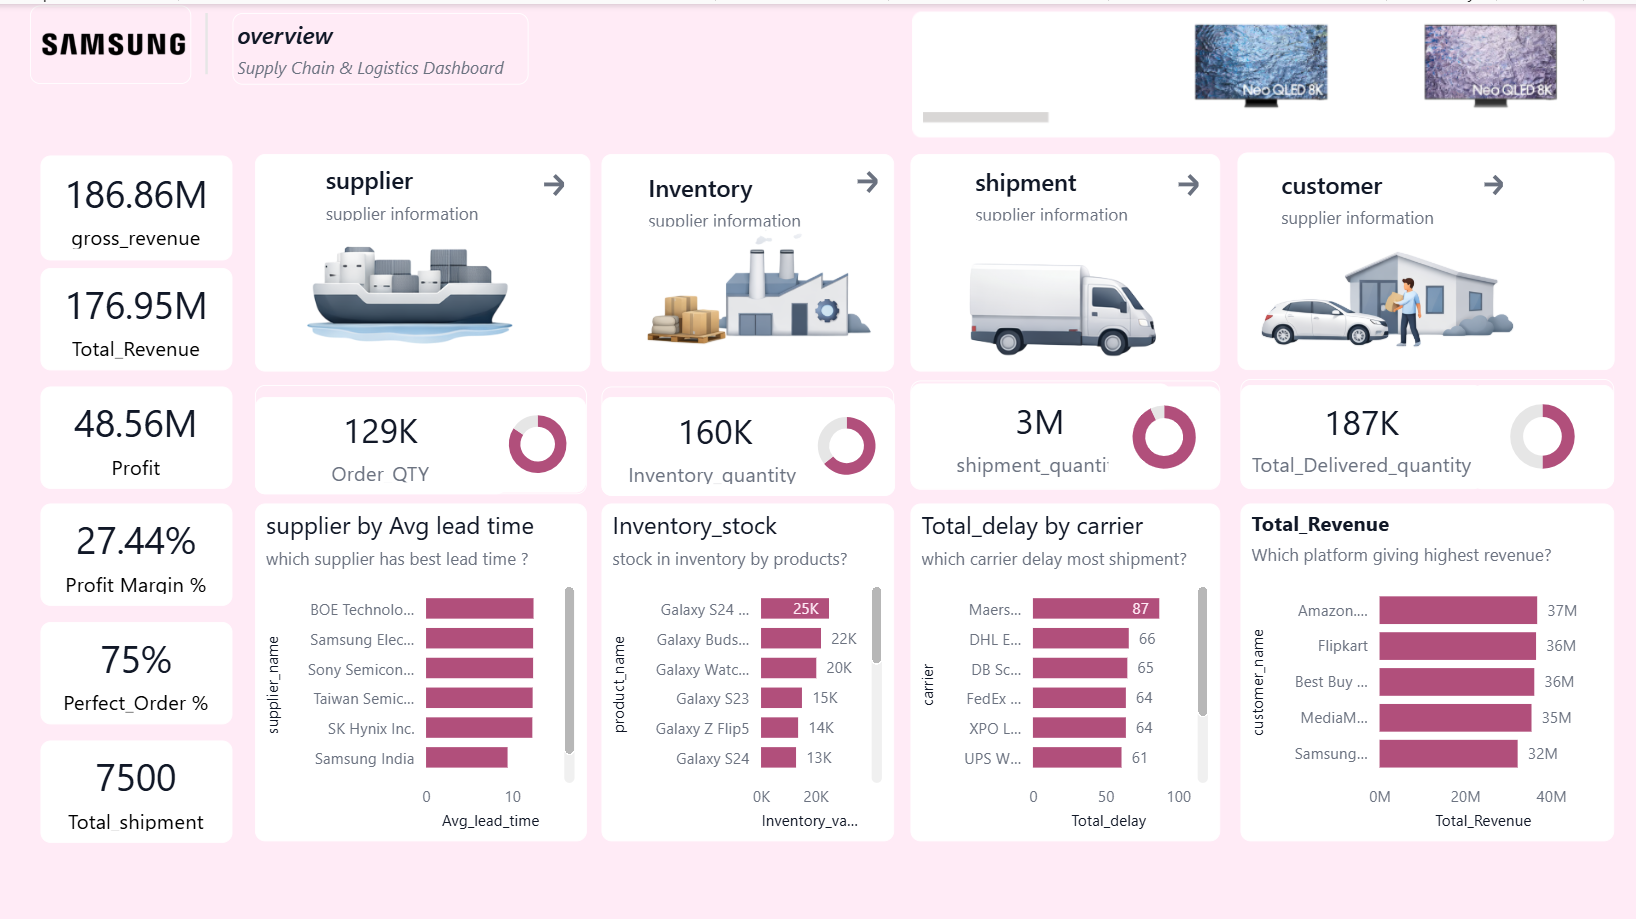

The page's visual inventory and layout, read from the dashboard file:
{"tool":"powerbi","page":{"name":"Overview","canvas":[1280,720],"ordinal":1},"visuals":[{"type":"shape","box":[199.2,117.2,262.1,170],"z":0},{"type":"shape","box":[470.2,117.2,228.5,170],"z":1000},{"type":"shape","box":[712,116.8,241.7,170],"z":2000},{"type":"shape","box":[967,115.6,294.9,170],"z":3000},{"type":"image","box":[483,154.9,208.5,127.5],"z":4000},{"type":"image","box":[717.3,178.8,221.8,107.6],"z":5000},{"type":"image","box":[221.8,165,189.9,106.3],"z":6000},{"type":"actionButton","box":[415.7,124.3,33.2,35.9],"z":7000},{"type":"actionButton","box":[660.6,121.6,33.2,35.9],"z":8000},{"type":"actionButton","box":[911.6,124.7,33.2,35.9],"z":9000},{"type":"actionButton","box":[1150.7,124.7,31.9,35.9],"z":10000},{"type":"shape","title":"supplier","box":[251,120.3,132.8,49.1],"z":11000},{"type":"shape","title":"Inventory ","box":[503,127,132.8,47.8],"z":12000},{"type":"shape","title":"shipment","box":[758.9,122.1,132.8,47.8],"z":13000},{"type":"shape","title":"customer","box":[997.5,124.3,132.8,54.5],"z":14000},{"type":"image","box":[976.7,181,225.8,95.6],"z":15000},{"type":"shape","title":"overview","box":[182,6.6,231.1,55.8],"z":16000},{"type":"shape","box":[139.5,6.6,43.8,47.8],"z":17000},{"type":"image","box":[23.9,1.3,126.2,61.1],"z":18000},{"type":"card","fields":{"Values":["MeasureTable.Total_Revenue"]},"box":[31.6,206.2,149.7,79.7],"z":19000},{"type":"card","fields":{"Values":["MeasureTable.Total_Profit"]},"box":[31.6,298.5,149.7,79.7],"z":20000},{"type":"card","fields":{"Values":["MeasureTable.Profit Margin %"]},"box":[31.6,390.9,149.7,79.7],"z":21000},{"type":"card","fields":{"Values":["MeasureTable.Perfect_Order %"]},"box":[31.6,483.2,149.7,79.7],"z":22000},{"type":"card","fields":{"Values":["MeasureTable.Total_shipment"]},"box":[31.8,575.5,149.7,79.7],"z":23000},{"type":"card","fields":{"Values":["Sum(fact_sales.gross_revenue)"]},"box":[31.6,118.8,149.7,82.2],"z":24000},{"type":"shape","box":[199.2,297.9,259,85],"z":25000},{"type":"shape","box":[470.2,299.2,228.5,85],"z":26000},{"type":"shape","box":[712,293.9,241.7,85],"z":27000},{"type":"shape","box":[969.6,293.5,292.2,85],"z":28000},{"type":"card","fields":{"Values":["MeasureTable.Order_QTY"]},"box":[199.2,306.8,196.6,75.7],"z":29000},{"type":"card","fields":{"Values":["MeasureTable.Inventory_value"]},"box":[470.2,306.8,178,77],"z":30000},{"type":"card","fields":{"Values":["MeasureTable.Total_shipment_quantity"]},"box":[712,296.2,203.2,82.4],"z":31000},{"type":"card","fields":{"Values":["MeasureTable.Total_Delivered_quantity"]},"box":[969.6,297.5,189.9,81],"z":32000},{"type":"clusteredBarChart","title":"supplier by Avg lead time ","fields":{"Y":["MeasureTable.Avg_lead_time"],"Category":["dim_supplier.supplier_name"]},"box":[199.2,390.5,259,264.3],"z":33000},{"type":"clusteredBarChart","title":"Inventory_stock","fields":{"Category":["dim_product.product_name"],"Y":["MeasureTable.Inventory_value"]},"box":[470.2,390.5,228.5,264.3],"z":34000},{"type":"clusteredBarChart","fields":{"Category":["fact_shipment.carrier"],"Y":["MeasureTable.Total_delay"]},"box":[712,390.5,241.7,264.3],"z":35000},{"type":"clusteredBarChart","title":"Total_Revenue ","fields":{"Category":["dim_customer.customer_name"],"Y":["MeasureTable.Total_Revenue"]},"box":[969.6,390.5,292.2,264.3],"z":36000},{"type":"donutChart","fields":{"Y":["MeasureTable.Inventory_value","MeasureTable.safety_stock"]},"box":[624.3,306.8,74.4,77],"z":37000},{"type":"donutChart","fields":{"Y":["MeasureTable.Total_shipment","MeasureTable.Total_delay"]},"box":[866,298.9,87.7,79.7],"z":38000},{"type":"donutChart","fields":{"Y":["MeasureTable.Total_Delivered_quantity","MeasureTable.total_qty_delay"]},"box":[1150.3,297.5,111.6,81],"z":39000},{"type":"donutChart","fields":{"Y":["MeasureTable.Order_QTY","MeasureTable.Defect_rate"]},"box":[383.9,306.8,74.4,74.4],"z":40000},{"type":"advancedSlicerVisual","fields":{"Values":["dim_product.product_name"]},"box":[712.2,6.4,549.5,98.6],"z":41000}]}

Visuals, with their boxes in screenshot pixels (x1, y1, x2, y2), scaled from the page's 1280x720 canvas onto the 1636x919 screenshot:
shape: bbox(255, 150, 590, 367)
shape: bbox(601, 150, 893, 367)
shape: bbox(910, 149, 1219, 366)
shape: bbox(1236, 148, 1613, 365)
image: bbox(617, 198, 884, 360)
image: bbox(917, 228, 1200, 366)
image: bbox(283, 211, 526, 346)
actionButton: bbox(531, 159, 574, 204)
actionButton: bbox(844, 155, 887, 201)
actionButton: bbox(1165, 159, 1208, 205)
actionButton: bbox(1471, 159, 1512, 205)
"supplier" shape: bbox(321, 154, 491, 216)
"Inventory " shape: bbox(643, 162, 813, 223)
"shipment" shape: bbox(970, 156, 1140, 217)
"customer" shape: bbox(1275, 159, 1445, 228)
image: bbox(1248, 231, 1537, 353)
"overview" shape: bbox(233, 8, 528, 80)
shape: bbox(178, 8, 234, 69)
image: bbox(31, 2, 192, 80)
card - MeasureTable.Total_Revenue: bbox(40, 263, 232, 365)
card - MeasureTable.Total_Profit: bbox(40, 381, 232, 483)
card - MeasureTable.Profit Margin %: bbox(40, 499, 232, 601)
card - MeasureTable.Perfect_Order %: bbox(40, 617, 232, 718)
card - MeasureTable.Total_shipment: bbox(41, 735, 232, 836)
card - Sum(fact_sales.gross_revenue): bbox(40, 152, 232, 257)
shape: bbox(255, 380, 586, 489)
shape: bbox(601, 382, 893, 490)
shape: bbox(910, 375, 1219, 484)
shape: bbox(1239, 375, 1613, 483)
card - MeasureTable.Order_QTY: bbox(255, 392, 506, 488)
card - MeasureTable.Inventory_value: bbox(601, 392, 828, 490)
card - MeasureTable.Total_shipment_quantity: bbox(910, 378, 1170, 483)
card - MeasureTable.Total_Delivered_quantity: bbox(1239, 380, 1482, 483)
"supplier by Avg lead time " clusteredBarChart: bbox(255, 498, 586, 836)
"Inventory_stock" clusteredBarChart: bbox(601, 498, 893, 836)
clusteredBarChart - fact_shipment.carrier x MeasureTable.Total_delay: bbox(910, 498, 1219, 836)
"Total_Revenue " clusteredBarChart: bbox(1239, 498, 1613, 836)
donutChart - MeasureTable.Inventory_value x MeasureTable.safety_stock: bbox(798, 392, 893, 490)
donutChart - MeasureTable.Total_shipment x MeasureTable.Total_delay: bbox(1107, 382, 1219, 483)
donutChart - MeasureTable.Total_Delivered_quantity x MeasureTable.total_qty_delay: bbox(1470, 380, 1613, 483)
donutChart - MeasureTable.Order_QTY x MeasureTable.Defect_rate: bbox(491, 392, 586, 487)
advancedSlicerVisual - dim_product.product_name: bbox(910, 8, 1613, 134)
